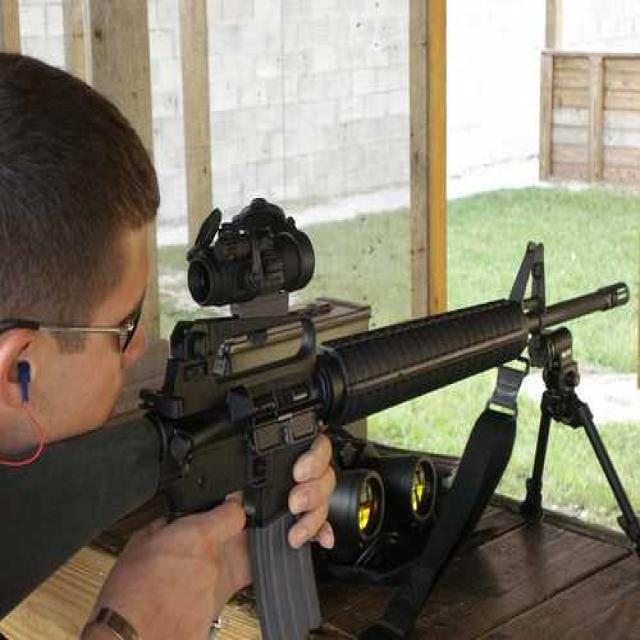heavyweapon: (53, 255, 640, 640)
